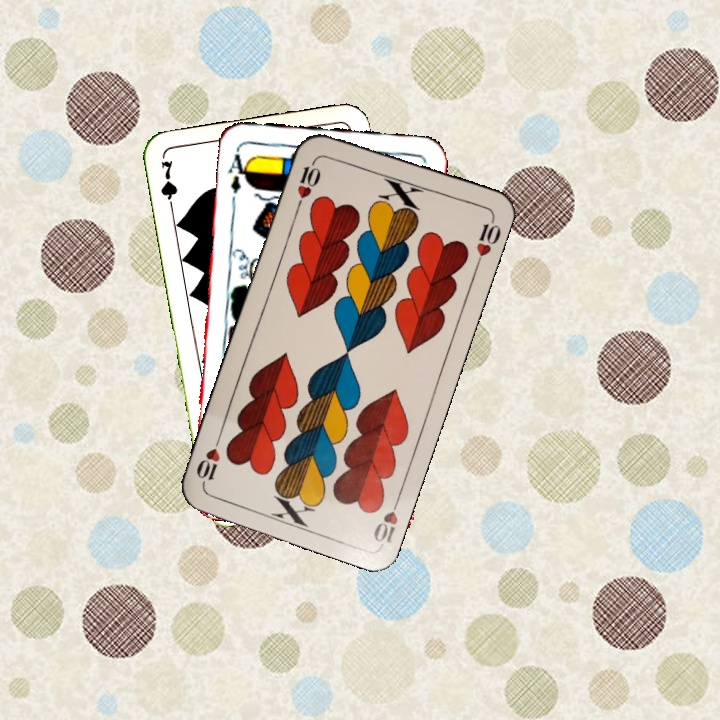EA: (224, 145, 252, 196)
G7: (157, 156, 180, 215)
H10: (369, 490, 404, 548), (292, 154, 324, 211)
